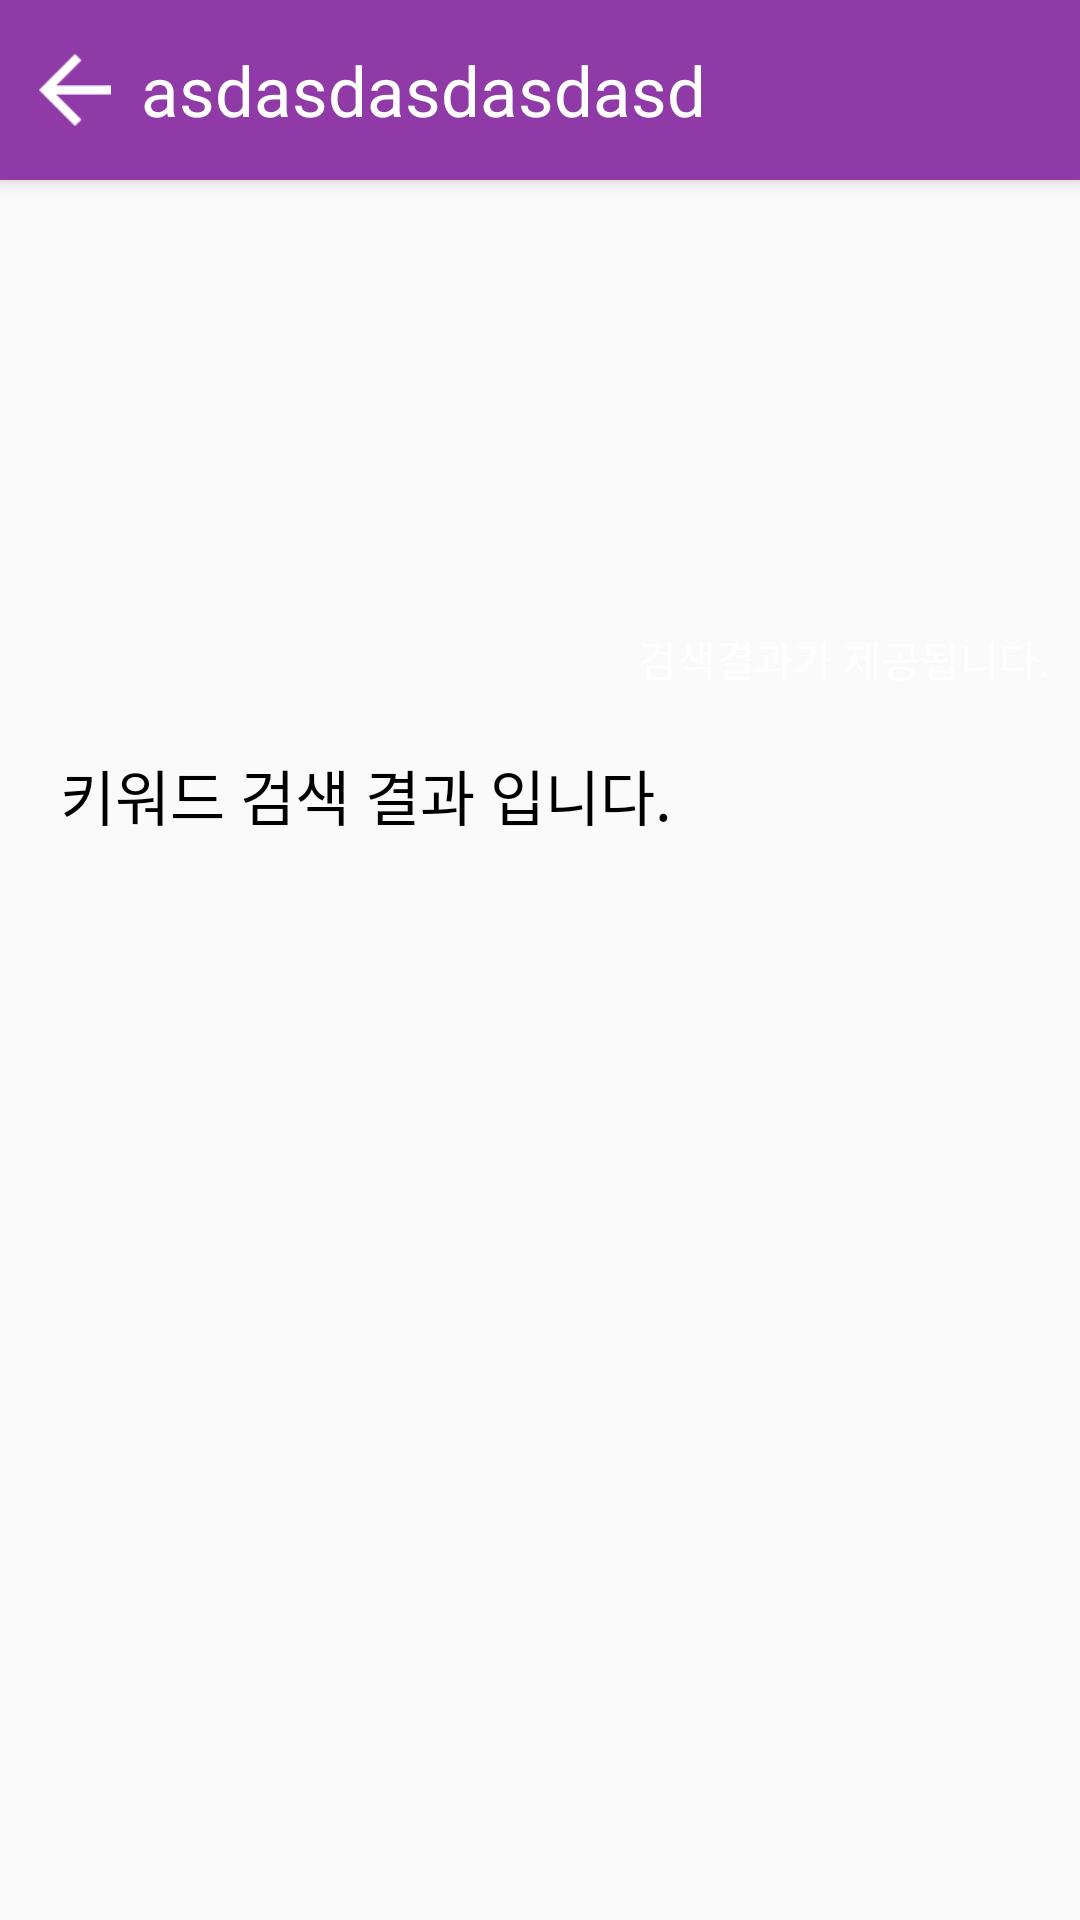

Where icons sit on this 1080x1920 app screen, as (x1, y1, x2, y2):
arrow back: (39, 54, 111, 126)
